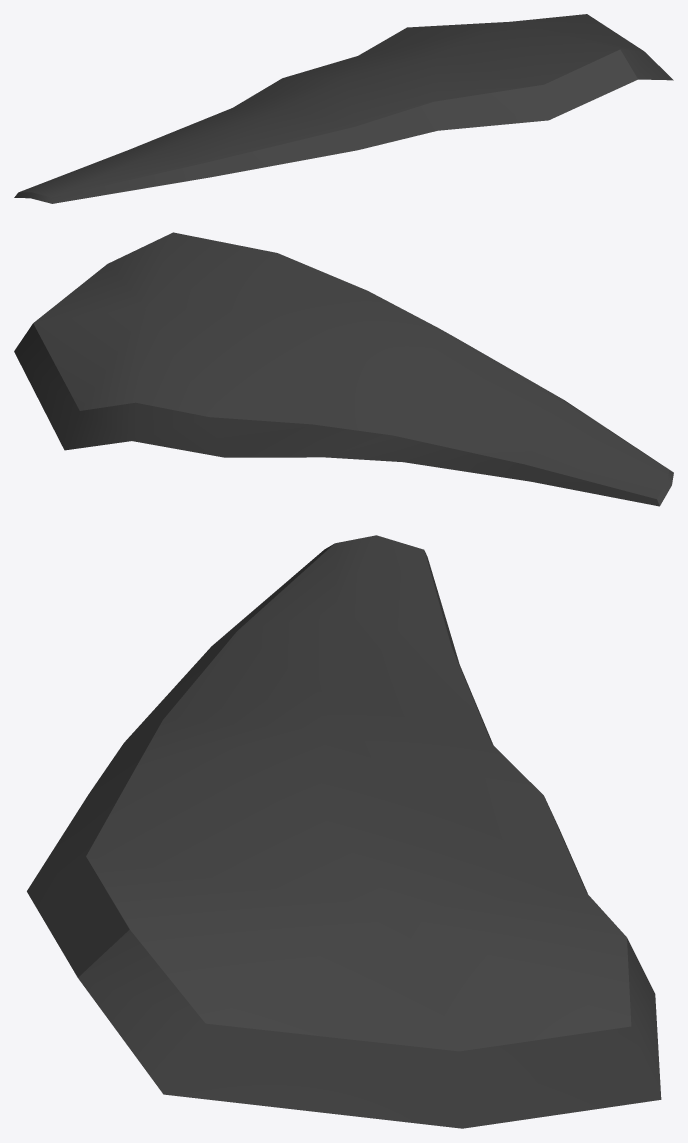
The model's file is WingR.obj.
The picture shows the model from 3 angles, top to bottom: view 1: azimuth 30°, elevation 25°; view 2: azimuth 150°, elevation 25°; view 3: azimuth 270°, elevation 25°; orthographic projection. The views are drawn at different scales.
Visible parts, largest first — view 1: P_Wing_R; view 2: P_Wing_R; view 3: P_Wing_R.
Part boxes in pixels (x1=…): P_Wing_R: x1=14, y1=14, x2=673, y2=203; P_Wing_R: x1=14, y1=232, x2=673, y2=506; P_Wing_R: x1=27, y1=535, x2=661, y2=1128.
Bounding box in the file's own units: 3.39 × 0.5419 × 1.56.
1 material, 1 textured.
